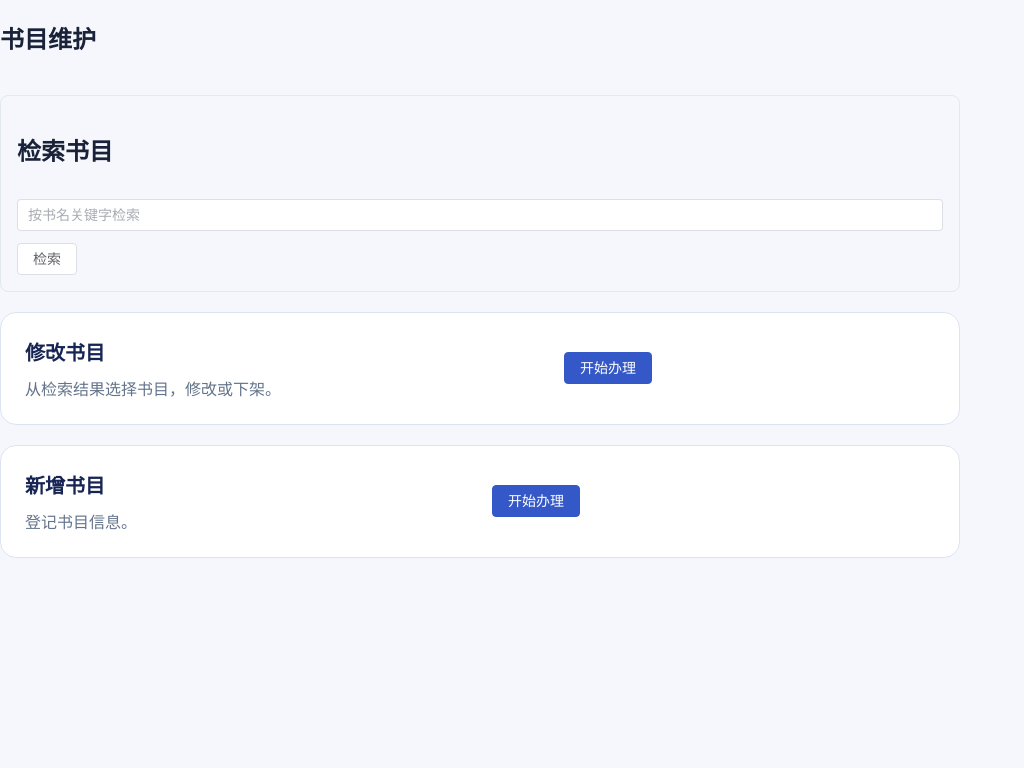
Test: CatalogAdminView › searches, selects a title and shows its version for optimistic updates
Type "database" into the field with test id "admin-search-input" at (480, 215), box [28,200,932,230]
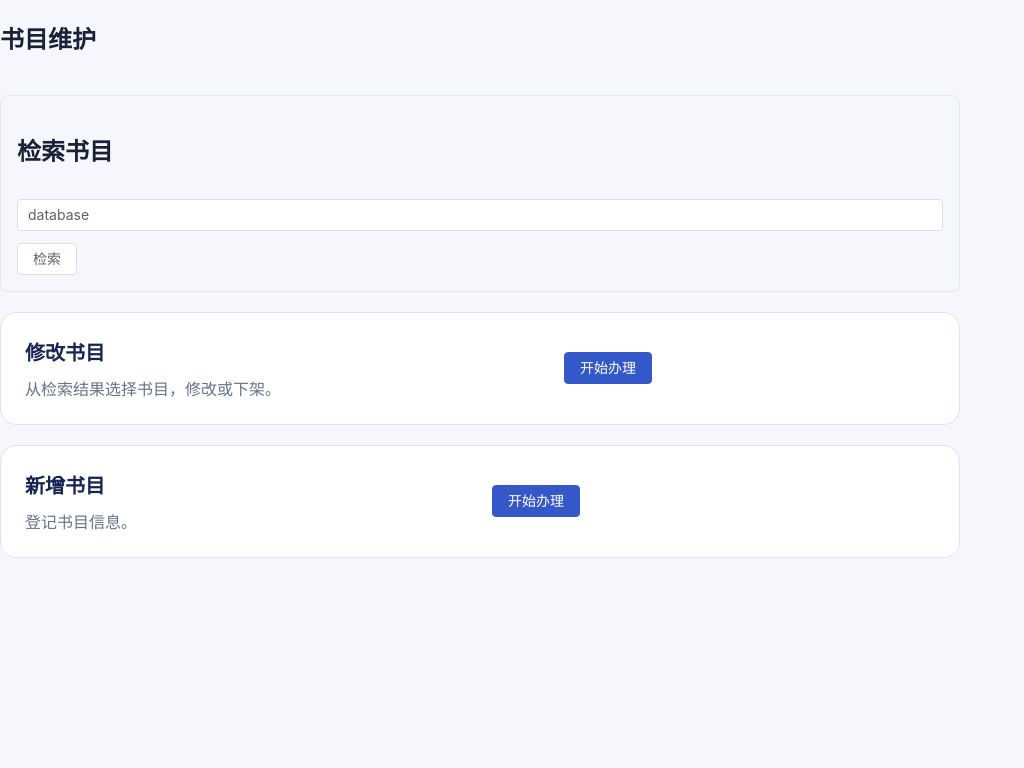
Submit the form with test id "admin-search-form", box [17,199,943,275]
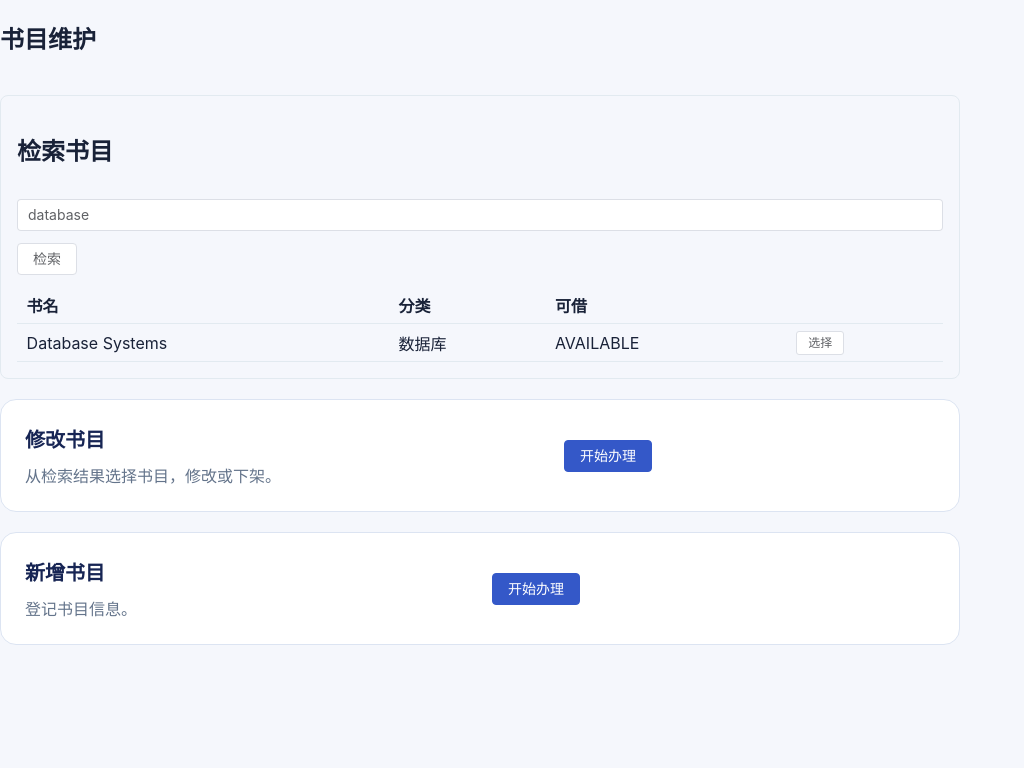
Click the button with test id "admin-select-2001" at (820, 343), box [796,331,844,355]
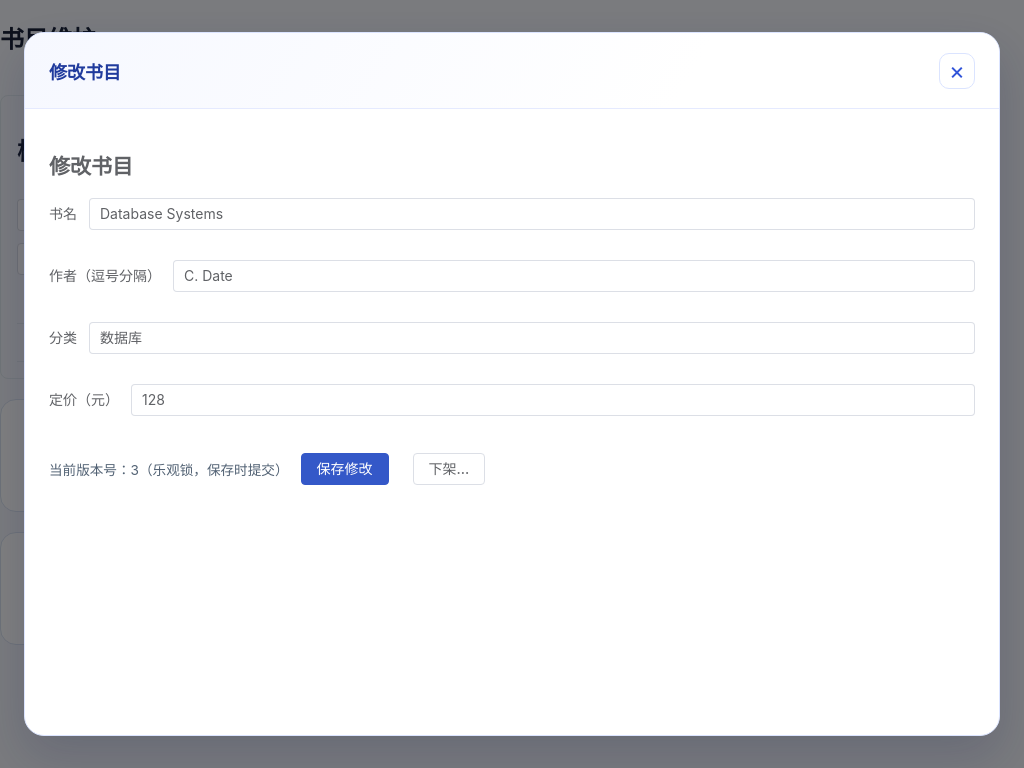
Expected: the form with test id "update-form" is shown, [49,198,975,493]
Expected: the field with test id "update-title" holds "Database Systems", [100,199,964,229]
Expected: the text "当前版本号：3" is shown, [49,462,288,478]
